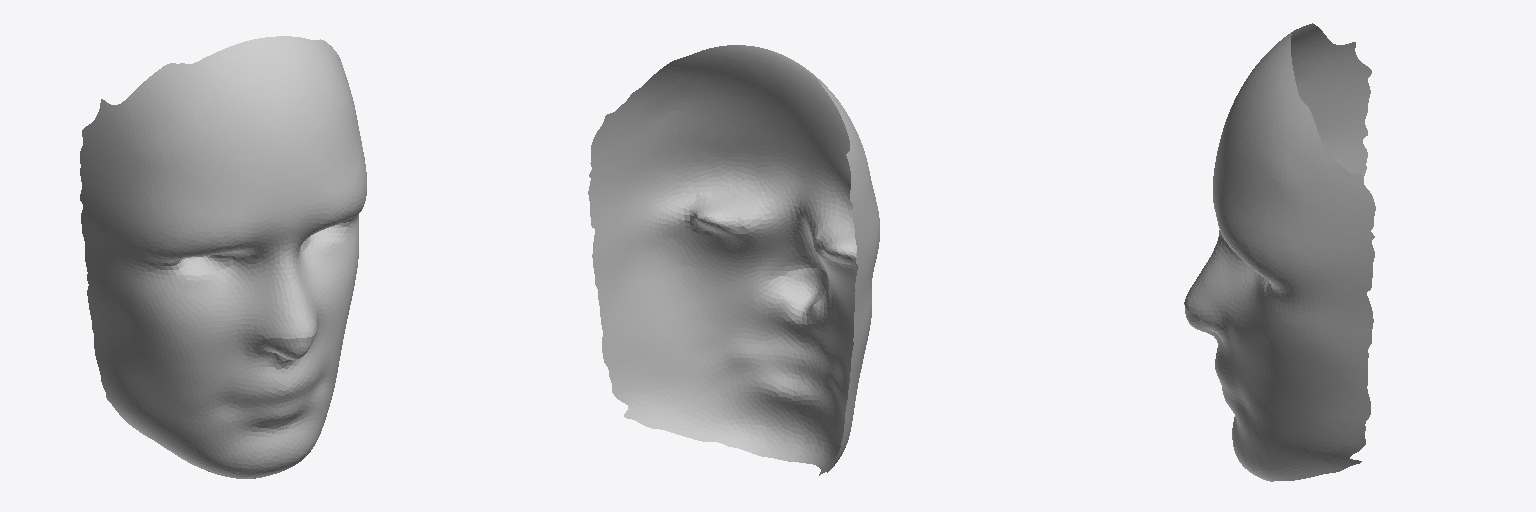
File: ManFace_Cln.obj
3 renders of one model, left to right at view 1: azimuth 30°, elevation 25°; view 2: azimuth 150°, elevation 25°; view 3: azimuth 270°, elevation 25°, orthographic.
Bounding box in the file's own units: 13.98 × 21.42 × 8.77.